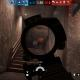Character: (32, 40, 38, 50)
Head: (33, 41, 35, 43)
